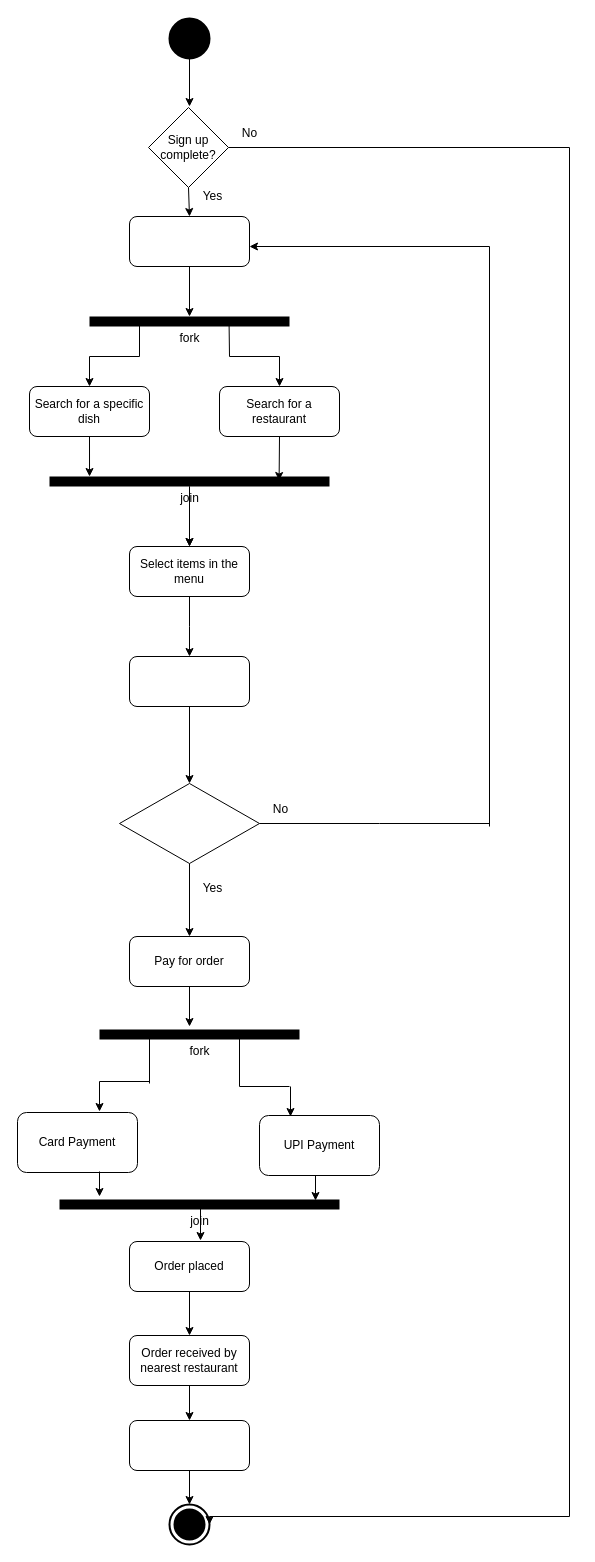
This 595x1562 diagram has some shape labels left out. The centre of each missing label's shape, as x and y in pixels:
Add to cart: pixel 189 681
Finalize items & amount?: pixel 189 823
Pack items: pixel 189 1445
Search for items: pixel 189 241
